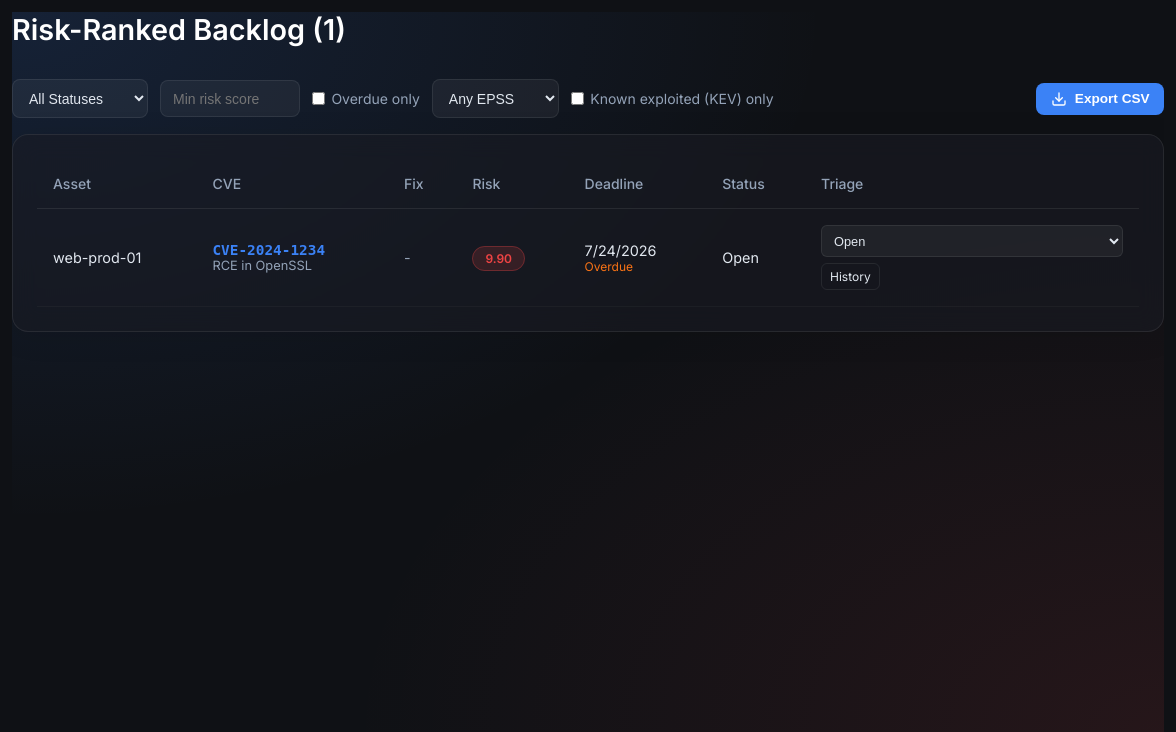
Test: FindingsBacklog › shows who decided what, when, and why
Click the button with aria-label "history of CVE-2024-1234 on web-prod-01": (850, 277) [821,263,880,290]
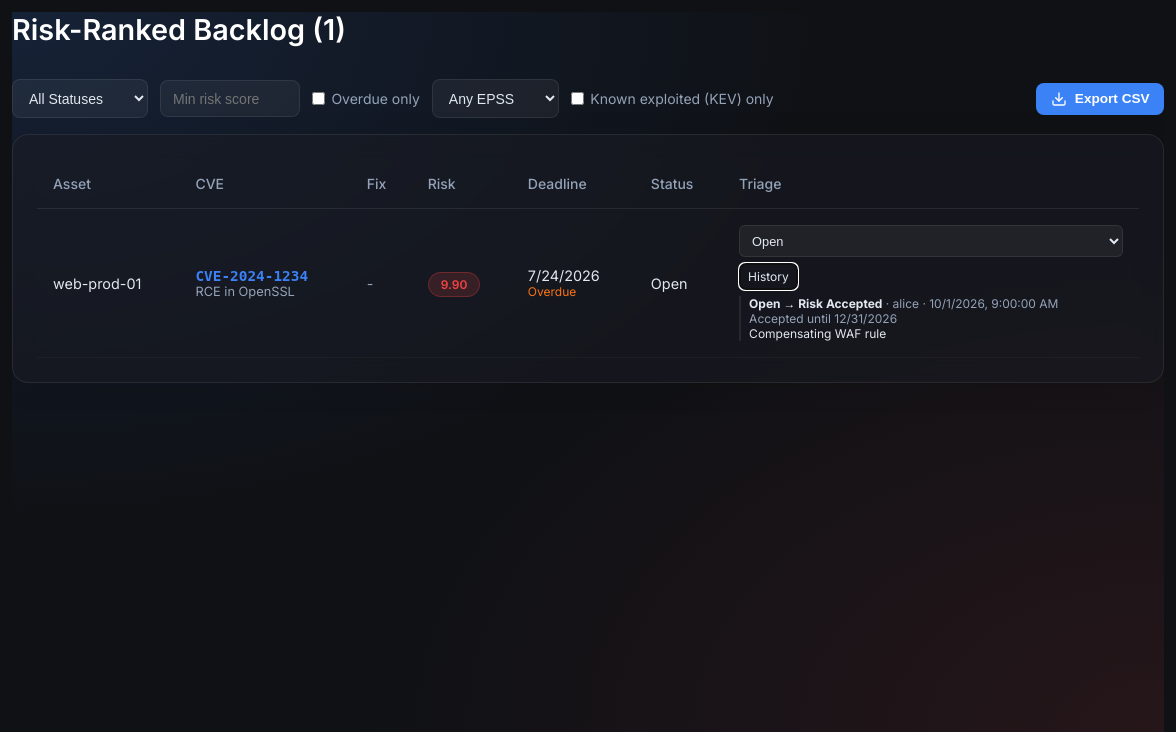
Now the list named "Triage history" shows "Open → Risk Accepted", box [749,296,882,311]
Now the list named "Triage history" shows "alice", box [893,296,919,311]
Now the list named "Triage history" shows "Compensating WAF rule", box [749,326,886,341]
